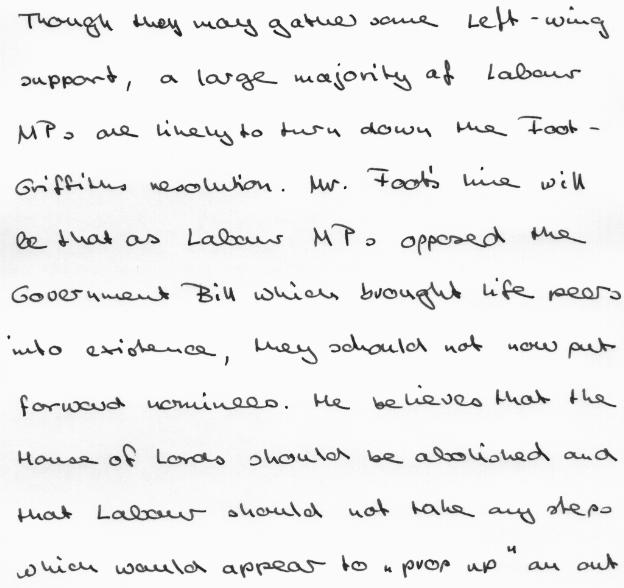text: (17, 380, 620, 420), (7, 274, 624, 313), (3, 332, 621, 370), (12, 543, 624, 581), (16, 4, 611, 43), (18, 57, 583, 97), (12, 220, 588, 258), (14, 112, 602, 148), (14, 494, 616, 528), (13, 164, 588, 199), (14, 440, 621, 472)
